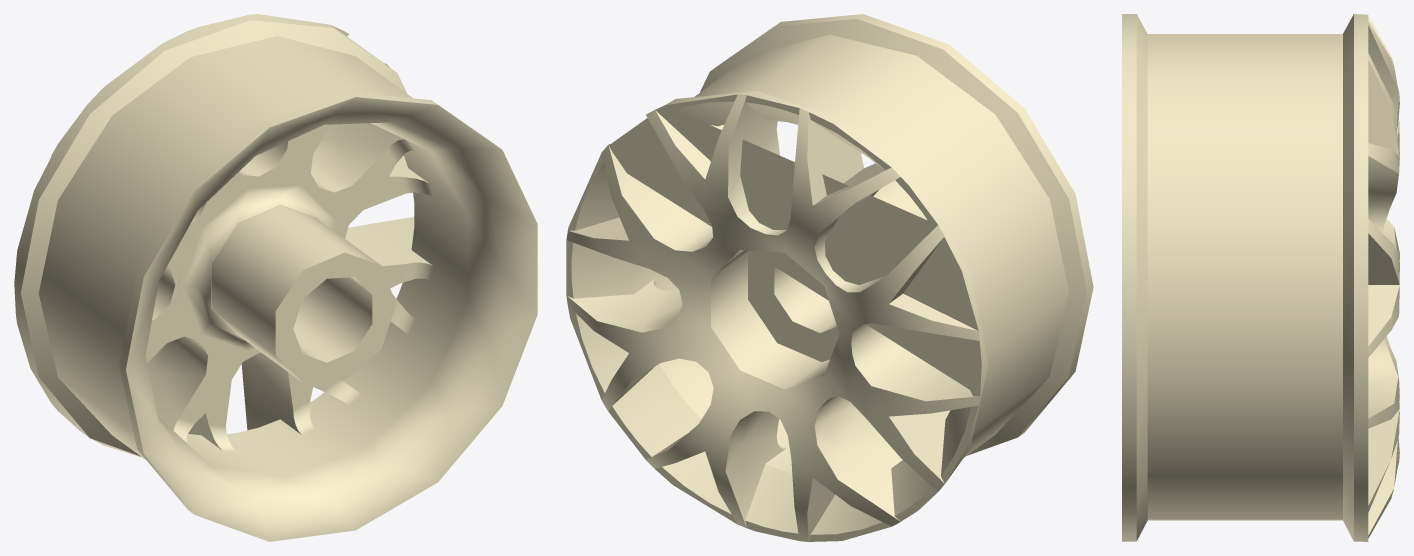
The model's file is wheel.obj.
3 renders of one model, left to right at view 1: azimuth 30°, elevation 25°; view 2: azimuth 150°, elevation 25°; view 3: azimuth 270°, elevation 25°, orthographic. The views are drawn at different scales.
Visible parts, largest first — view 1: Solid1; view 2: Solid1; view 3: Solid1.
Part boxes in pixels (x1,y1,x2,y2): Solid1: (14, 14, 537, 541); Solid1: (566, 14, 1093, 541); Solid1: (1122, 14, 1399, 541).
Size of the model in its own units: 1.53 by 1.53 by 0.804.
